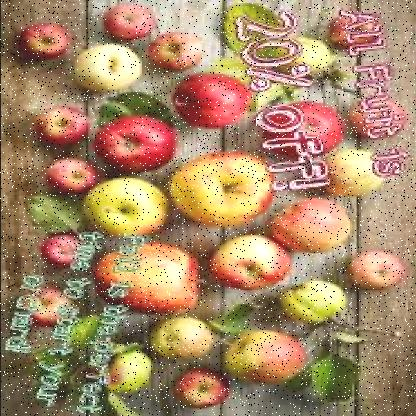apple: (100, 241, 197, 310), (183, 152, 268, 220), (92, 174, 166, 238), (212, 230, 292, 286), (228, 327, 304, 384), (76, 32, 141, 95), (105, 120, 172, 180), (275, 100, 342, 157), (275, 198, 347, 250), (183, 76, 255, 127), (282, 276, 352, 323), (349, 244, 409, 293), (16, 16, 76, 64), (331, 144, 385, 194), (102, 346, 156, 392), (156, 313, 212, 356), (43, 155, 98, 195), (36, 109, 94, 143), (154, 26, 202, 64), (182, 367, 230, 404), (36, 286, 76, 328), (49, 233, 85, 267), (115, 5, 158, 32)
